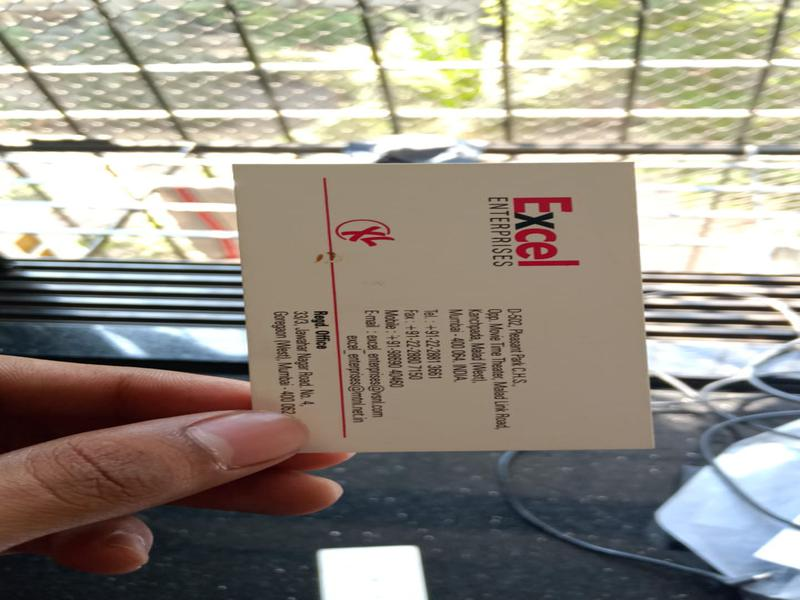card: (231, 158, 657, 456)
